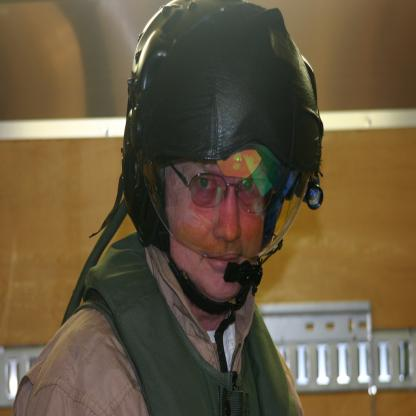Helmet: (93, 1, 318, 308)
